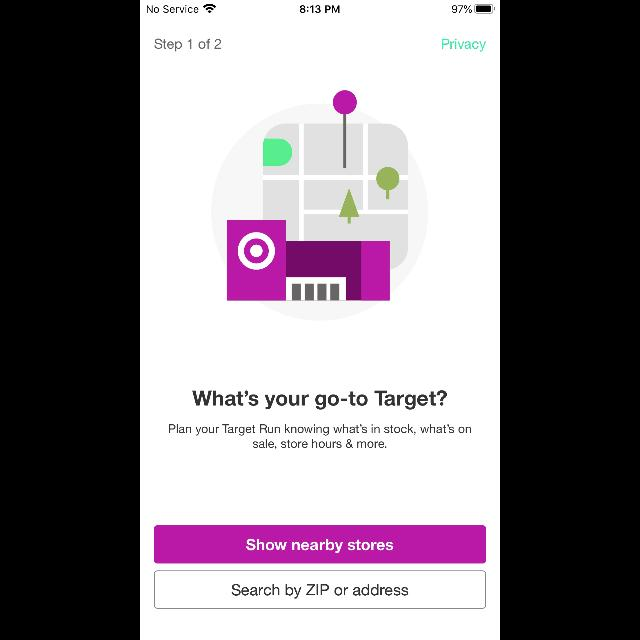image: (212, 91, 428, 321)
text: (169, 424, 471, 450), (193, 390, 447, 410), (155, 38, 221, 52), (442, 38, 486, 52)
textbutton: (154, 570, 486, 608), (154, 525, 486, 563)
uppertaskbar: (140, 0, 500, 14)
